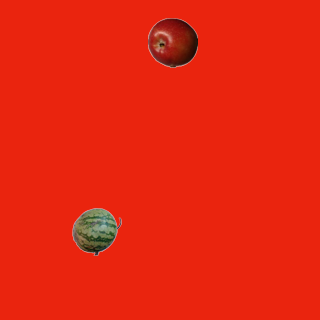Apple Braeburn: (147, 17, 197, 67)
Watermelon: (71, 206, 121, 256)
